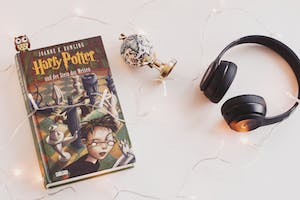book: (14, 31, 137, 190)
